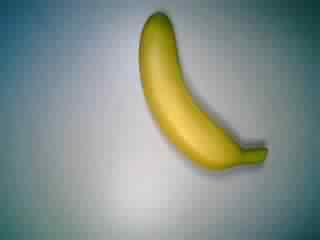banana: (134, 7, 272, 175)
